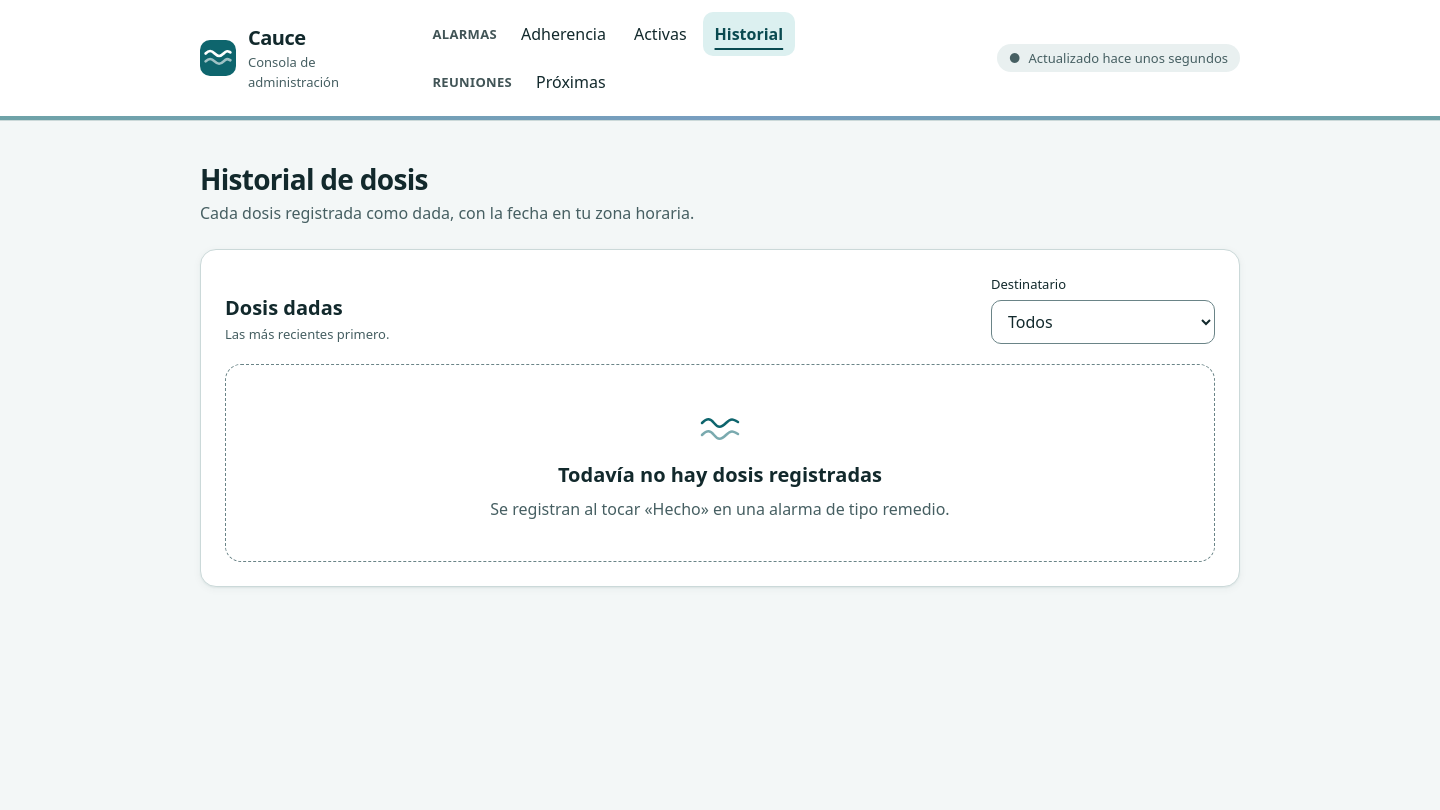
Scenario: HistorialView (P3) › el destinatario es un select con las opciones de adherencia y filtra al cambiar
Check: the text "Todavía no hay dosis registradas" is shown, box [558,461,882,489]
Select "Juan" in the dropdown labelled "Destinatario". click: (1103, 322)
box: [991,300,1215,344]
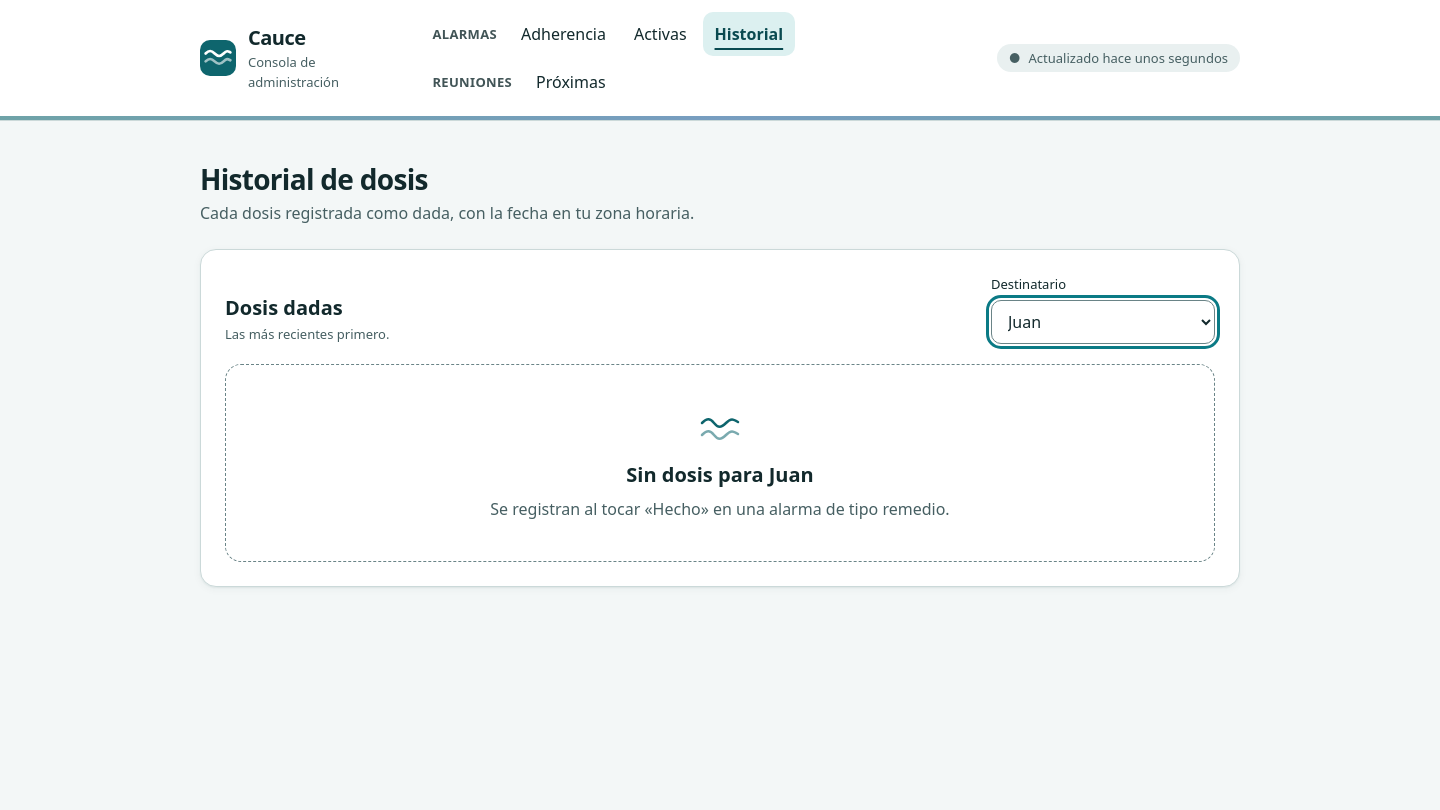
Check: the text "Sin dosis para Juan" is shown, box [626,461,814,489]
